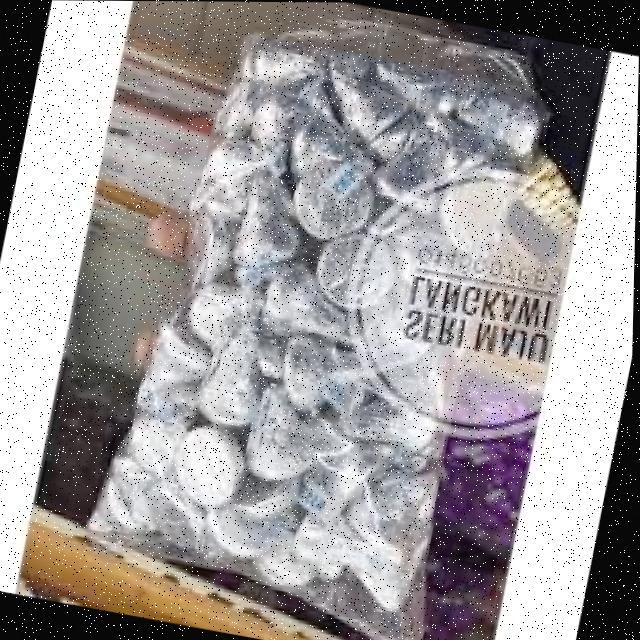kisses: (228, 377, 338, 513), (281, 146, 386, 267), (127, 300, 227, 427)
